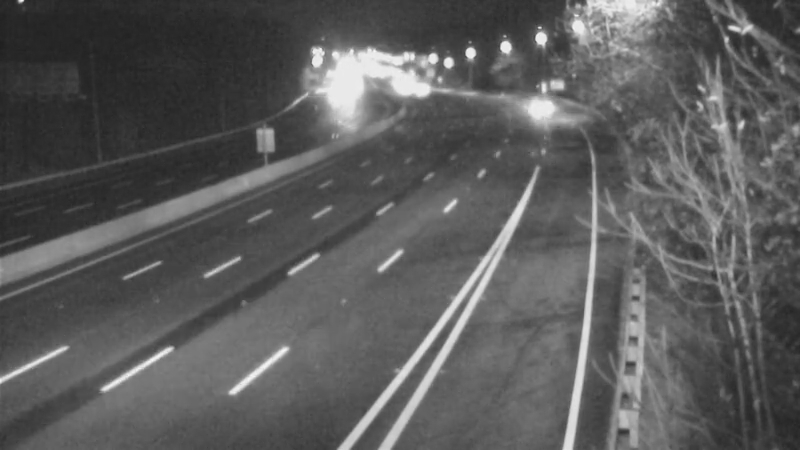vehicle: (505, 84, 555, 134)
